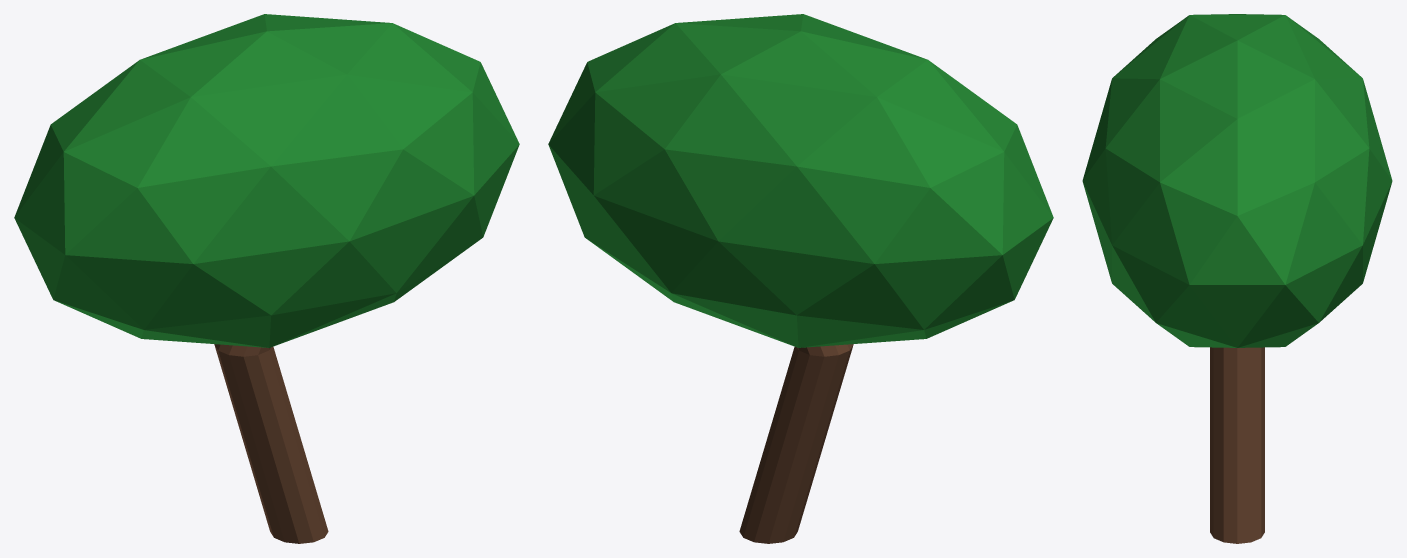
File: Bush.fbx
3 renders of one model, left to right at view 1: azimuth 30°, elevation 25°; view 2: azimuth 150°, elevation 25°; view 3: azimuth 270°, elevation 25°, orthographic. The views are drawn at different scales.
Parts seen in each view (by area): view 1: Icosphere; view 2: Icosphere; view 3: Icosphere.
Boxes of the visible parts, bbox=[...] form: Icosphere: bbox=[14, 14, 519, 543]; Icosphere: bbox=[548, 14, 1053, 543]; Icosphere: bbox=[1082, 14, 1392, 543].
Bounding box in the file's own units: 3.18 × 2 × 3.4.
